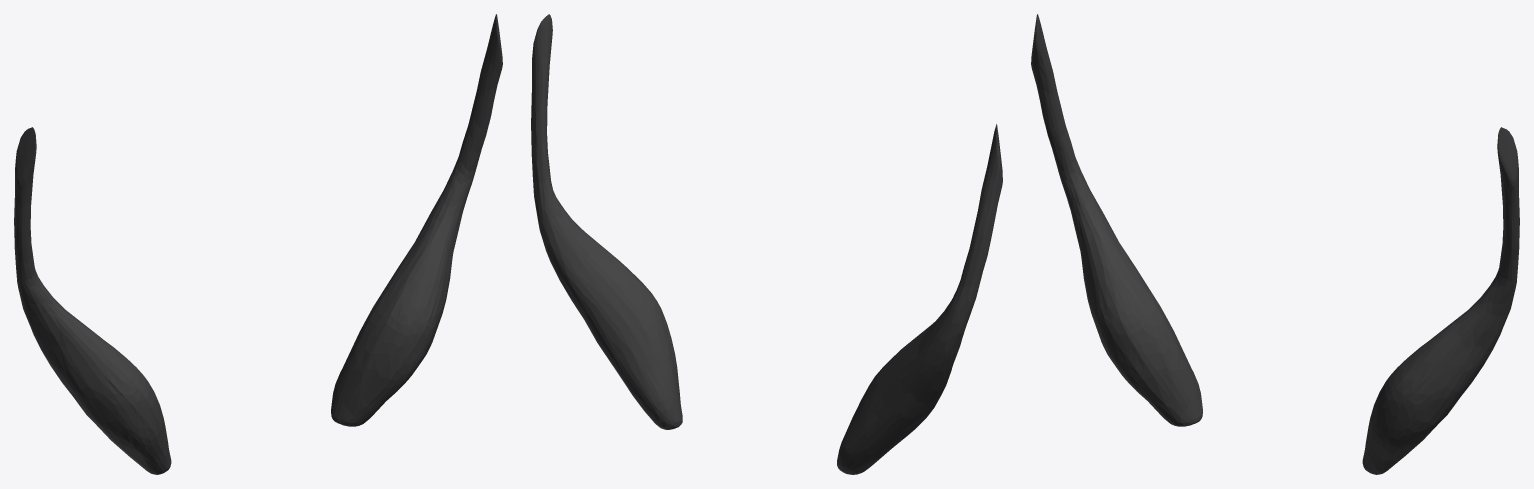
The model's file is m_pectineus.glb.
3 renders of one model, left to right at view 1: azimuth 30°, elevation 25°; view 2: azimuth 150°, elevation 25°; view 3: azimuth 330°, elevation 25°, orthographic. The views are drawn at different scales.
Visible parts, largest first — view 1: m_pectineus; view 2: m_pectineus; view 3: m_pectineus.
Part boxes in pixels (x1,y1,x2,y2): m_pectineus: [14, 14, 502, 474]; m_pectineus: [531, 14, 1002, 474]; m_pectineus: [1031, 14, 1519, 474].
Size of the model in its own units: 0.004 by 0.00304 by 0.000591.
Materials: 1 (1 with a texture image).
